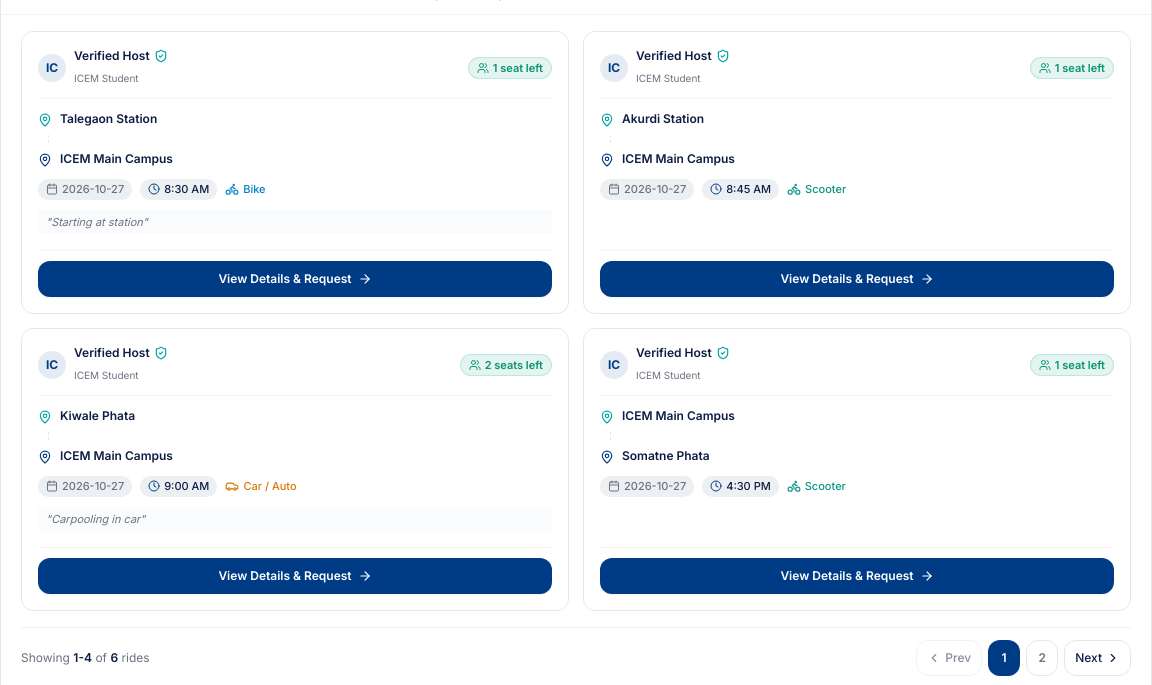
Test: AvailableCampusRides Component › navigates pagination using Next and Prev buttons
This screenshot has width=1152, height=685.
(page scrolled)
Expected: the text "Talegaon Station" is shown, top-left (60, 111), bottom-right (157, 126)
Expected: the button with aria-label "previous page" is disabled, top-left (916, 640), bottom-right (982, 676)
Click Next
What coordinates should you click on to do the following:
click the button with aria-label "next page"
I would click on:
 (1098, 658)
Its box is top-left (1064, 640), bottom-right (1131, 676).
(page scrolled)
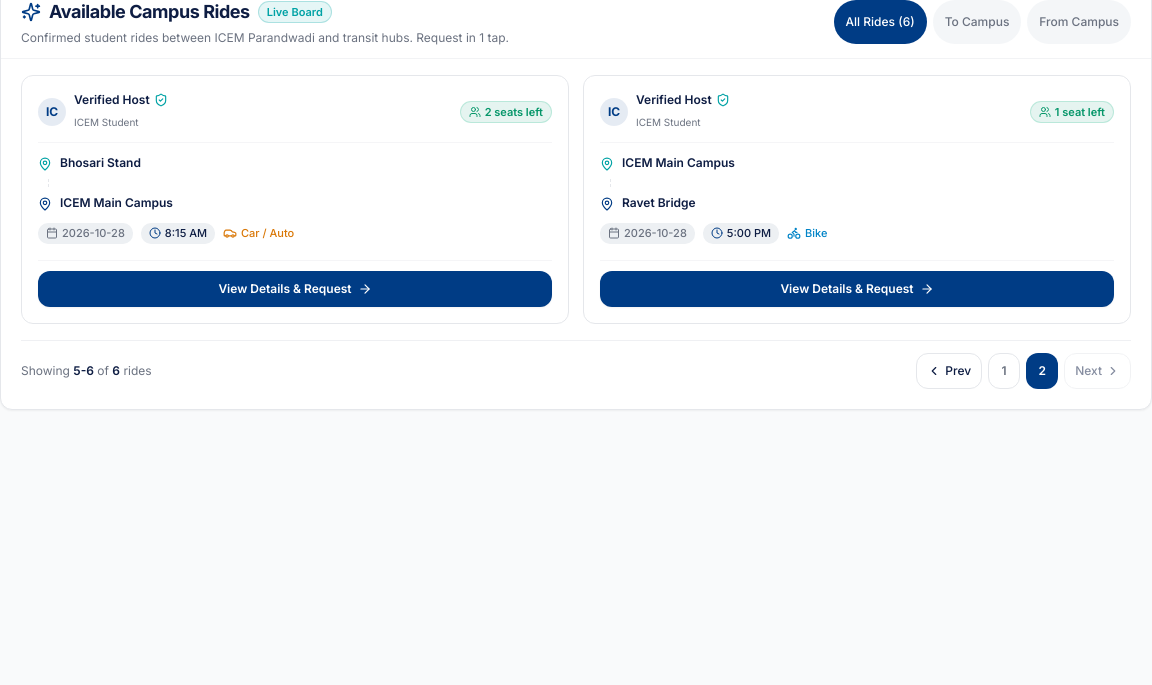
Expected: the text "Bhosari Stand" is shown, top-left (60, 155), bottom-right (141, 170)
Expected: the button with aria-label "previous page" is enabled
Expected: the button with aria-label "next page" is disabled, top-left (1064, 352), bottom-right (1131, 388)
Click Prev
What coordinates should you click on to do the following:
click the button with aria-label "previous page"
I would click on:
 (949, 370)
Its box is top-left (916, 352), bottom-right (982, 388).
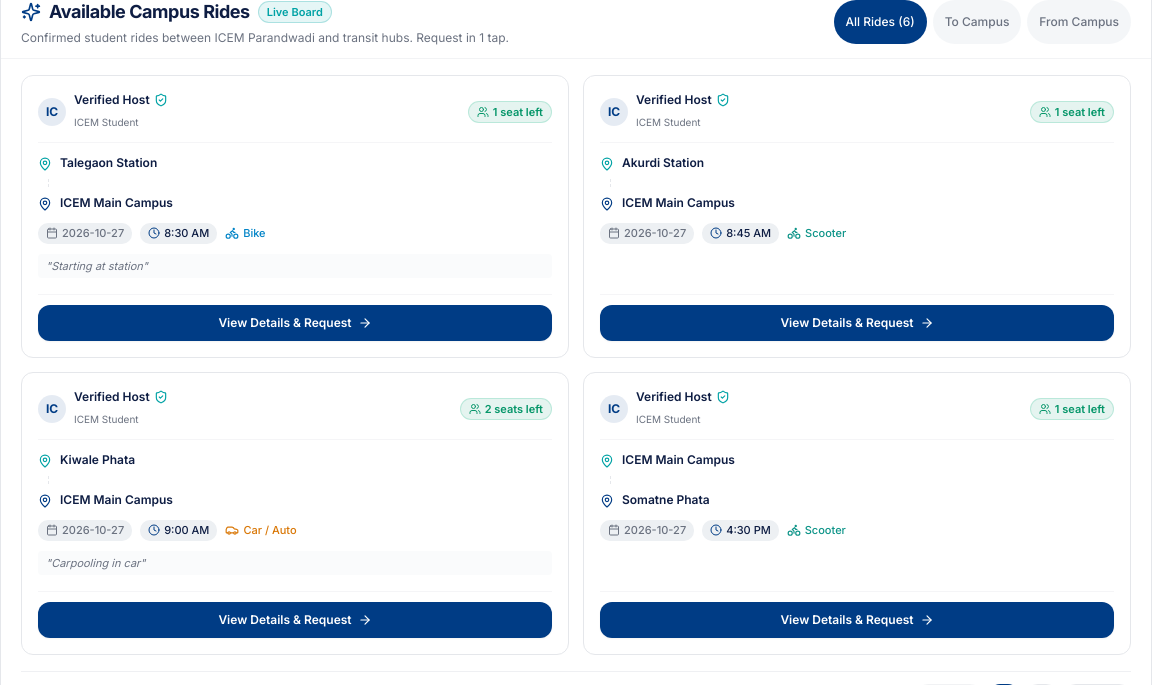
Expected: the text "Talegaon Station" is shown, top-left (60, 155), bottom-right (157, 170)
